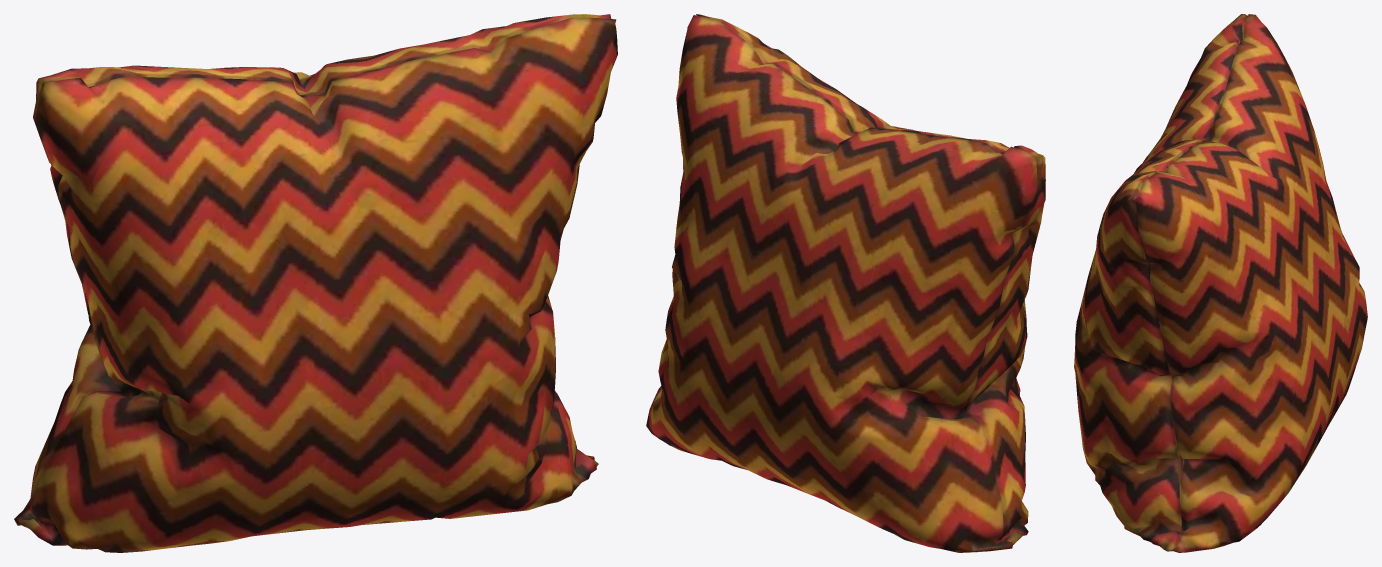
File: throw_pillows_01_0.glb
3 views of the same model, side by side, from view 1: azimuth 30°, elevation 25°; view 2: azimuth 150°, elevation 25°; view 3: azimuth 270°, elevation 25° (orthographic). The views are drawn at different scales.
Visible parts, largest first — view 1: throw_pillows_01_pillow02; view 2: throw_pillows_01_pillow02; view 3: throw_pillows_01_pillow02.
Part boxes in pixels (x1,y1,x2,y2): throw_pillows_01_pillow02: (14, 14, 617, 552); throw_pillows_01_pillow02: (646, 14, 1045, 552); throw_pillows_01_pillow02: (1074, 14, 1367, 552).
Size of the model in its own units: 0.502 by 0.4426 by 0.3301.
Materials: 1 (1 with a texture image).
